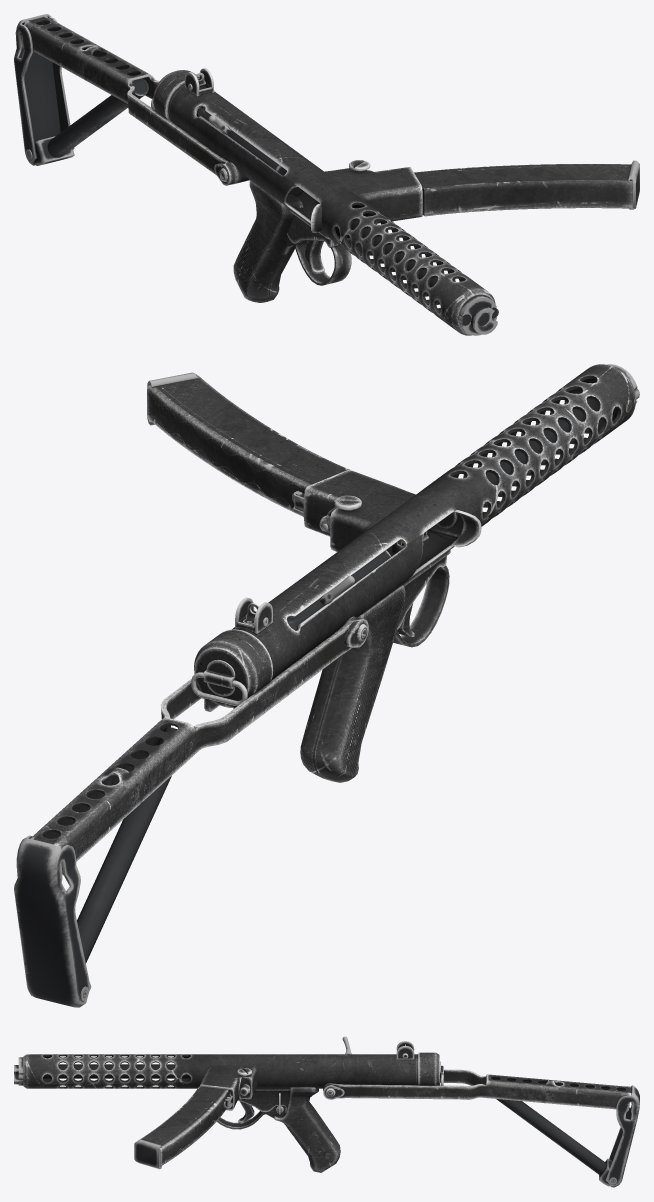
The model's file is sterling.fbx.
3 renders of one model, top to bottom at view 1: azimuth 30°, elevation 25°; view 2: azimuth 150°, elevation 25°; view 3: azimuth 270°, elevation 25°, orthographic. The views are drawn at different scales.
Parts seen in each view (by area): view 1: sterling; view 2: sterling; view 3: sterling.
Part boxes in pixels (x1,y1,x2,y2): sterling: (14, 14, 639, 335); sterling: (14, 364, 639, 1007); sterling: (14, 1036, 639, 1187).
Bounding box in the file's own units: 2054 × 1329 × 5463.
